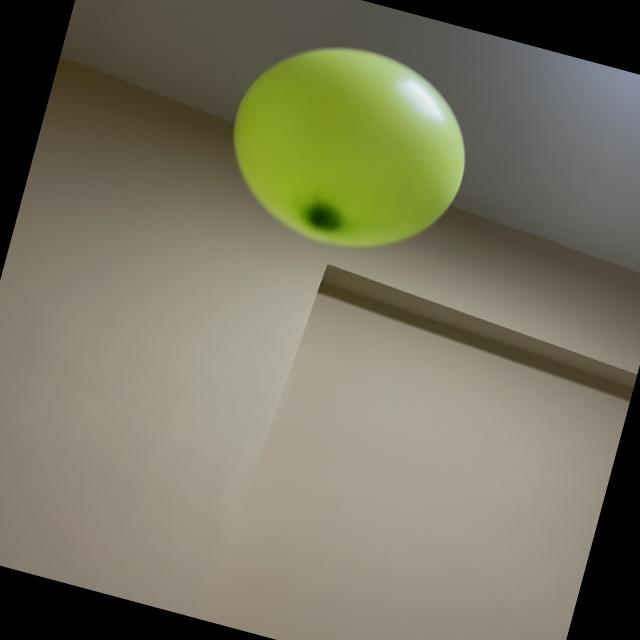balloon: (233, 48, 464, 247)
